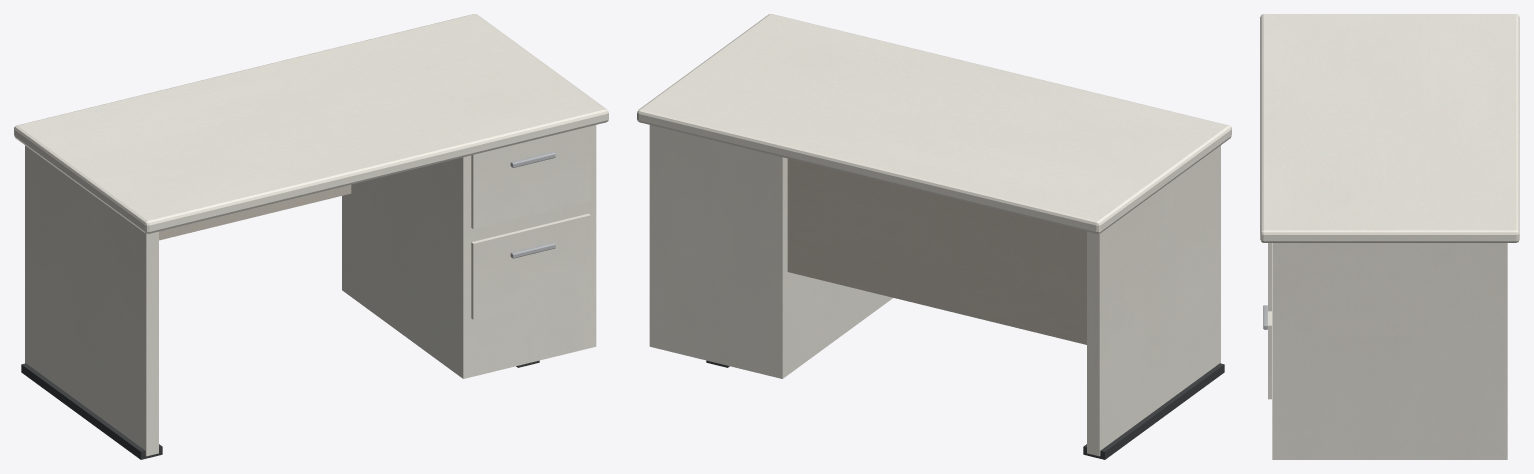
The model's file is office_desk.glb.
The picture shows the model from 3 angles, left to right: view 1: azimuth 30°, elevation 25°; view 2: azimuth 150°, elevation 25°; view 3: azimuth 270°, elevation 25°; orthographic projection. The views are drawn at different scales.
Visible parts, largest first — view 1: Straight 1.5m desk top, Right straight drawer pedestal, Left full-height straight support, Flush desk drawer, Flush desk drawer.001, Plain modesty panel, Straight floor shoe; view 2: Straight 1.5m desk top, Right straight drawer pedestal, Plain modesty panel, Left full-height straight support, Straight floor shoe; view 3: Straight 1.5m desk top, Right straight drawer pedestal, Flush desk drawer, Flush desk drawer.001.
Part boxes in pixels (x1,y1,x2,y2): Straight 1.5m desk top: (14, 14, 608, 233); Right straight drawer pedestal: (342, 125, 596, 378); Left full-height straight support: (25, 145, 158, 456); Flush desk drawer: (471, 213, 590, 319); Flush desk drawer.001: (471, 126, 590, 229); Plain modesty panel: (159, 184, 351, 240); Straight floor shoe: (21, 363, 162, 459); Straight 1.5m desk top: (637, 14, 1231, 233); Right straight drawer pedestal: (649, 125, 892, 378); Plain modesty panel: (787, 158, 1086, 344); Left full-height straight support: (1087, 145, 1220, 456); Straight floor shoe: (1083, 363, 1224, 459); Straight 1.5m desk top: (1260, 14, 1519, 242); Right straight drawer pedestal: (1272, 243, 1507, 459); Flush desk drawer: (1268, 311, 1271, 399); Flush desk drawer.001: (1268, 243, 1271, 311).
Size of the model in its own units: 1.5 by 0.7495 by 0.75.
4 materials, 3 textured.
